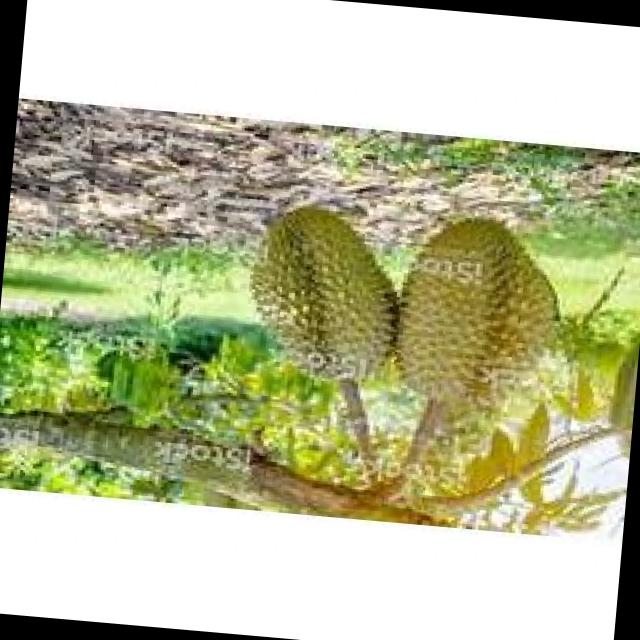fruit: (368, 192, 604, 448), (228, 192, 420, 400)
